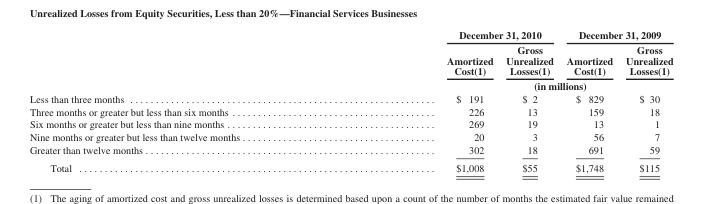table: (28, 28, 672, 173)
table column: (28, 28, 342, 173), (342, 28, 498, 173), (498, 28, 559, 173), (559, 28, 618, 173), (618, 28, 672, 173)
table column header: (28, 28, 672, 92)
table row: (28, 42, 672, 77), (28, 77, 672, 92), (28, 143, 672, 158), (28, 158, 672, 173), (28, 28, 672, 42), (28, 104, 672, 117), (28, 117, 672, 130), (28, 130, 672, 143), (28, 92, 672, 104)
table spanning cell: (342, 77, 672, 92), (342, 28, 559, 42), (559, 28, 672, 42)
